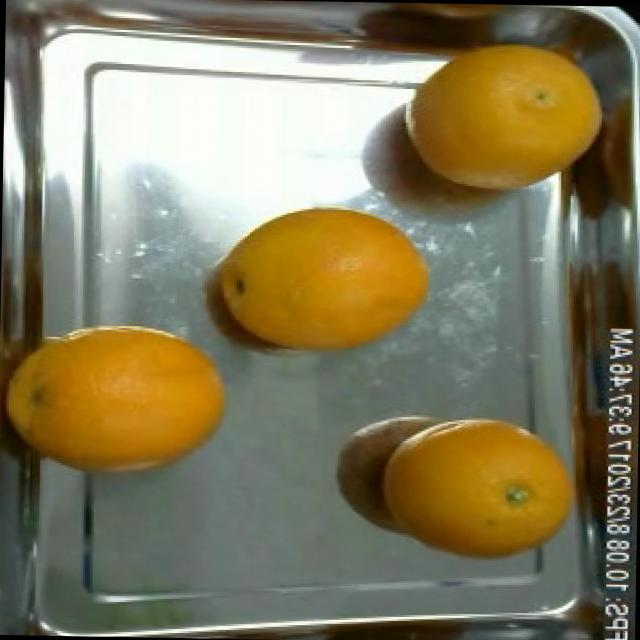Fruit: (365, 393, 594, 579), (242, 194, 449, 368), (326, 0, 532, 62), (577, 4, 640, 45)
